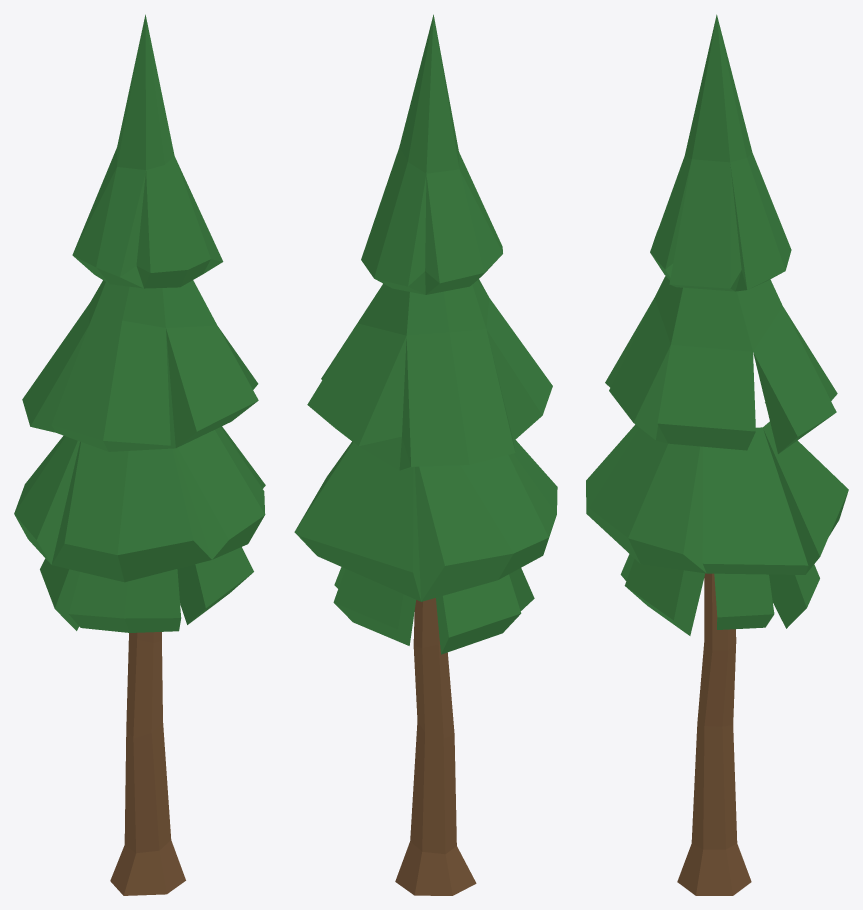
The model's file is tree-forest.glb.
3 renders of one model, left to right at view 1: azimuth 30°, elevation 25°; view 2: azimuth 150°, elevation 25°; view 3: azimuth 270°, elevation 25°, orthographic.
Visible parts, largest first — view 1: tree-forest; view 2: tree-forest; view 3: tree-forest.
Part boxes in pixels (x1=…): tree-forest: x1=14, y1=14, x2=265, y2=895; tree-forest: x1=294, y1=14, x2=557, y2=895; tree-forest: x1=586, y1=14, x2=848, y2=895.
Size of the model in its own units: 2.41 by 8.85 by 2.43.
1 material, 1 textured.
